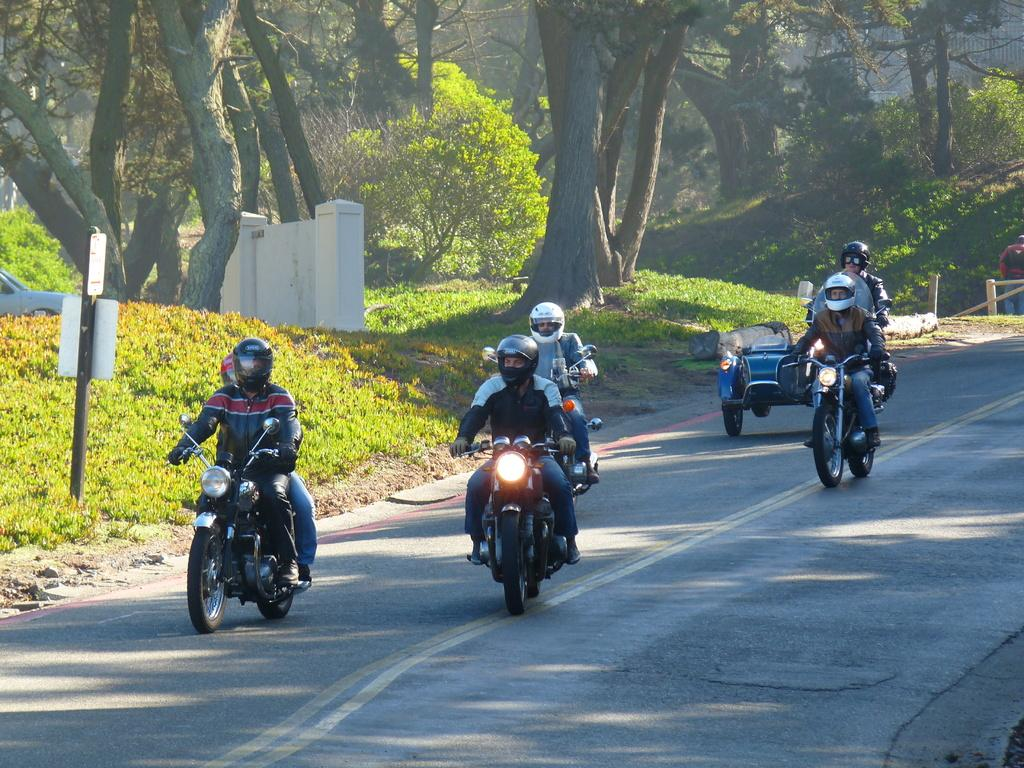helmet: (495, 334, 540, 386), (232, 338, 274, 391), (529, 302, 565, 344), (824, 272, 856, 312), (840, 241, 871, 274)
